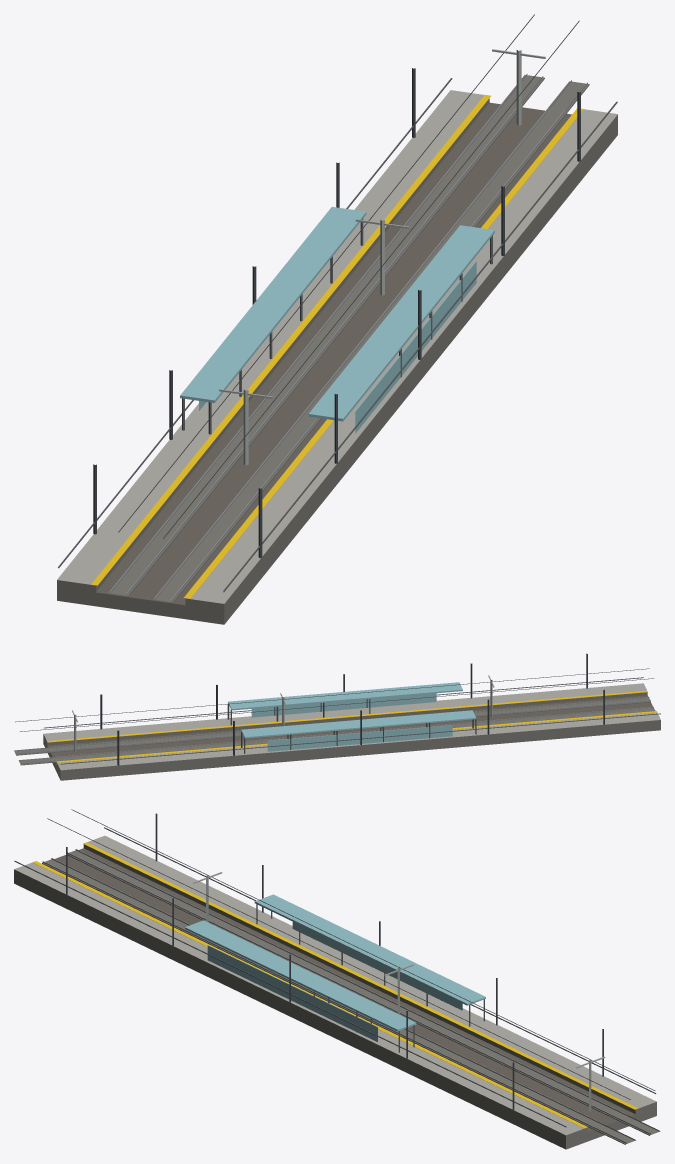
File: br_p152_muttart_stop_lod1.gltf
3 renders of one model, top to bottom at view 1: azimuth 30°, elevation 25°; view 2: azimuth 150°, elevation 25°; view 3: azimuth 270°, elevation 25°, orthographic. The views are drawn at different scales.
Parts seen in each view (by area): view 1: br_p152_muttart_stop_lod1; view 2: br_p152_muttart_stop_lod1; view 3: br_p152_muttart_stop_lod1.
Boxes of the visible parts, <box> form: br_p152_muttart_stop_lod1: <box>57,14,617,624</box>; br_p152_muttart_stop_lod1: <box>14,653,660,780</box>; br_p152_muttart_stop_lod1: <box>14,809,660,1149</box>.
Bounding box in the file's own units: 89.43 × 8.6 × 80.21.
